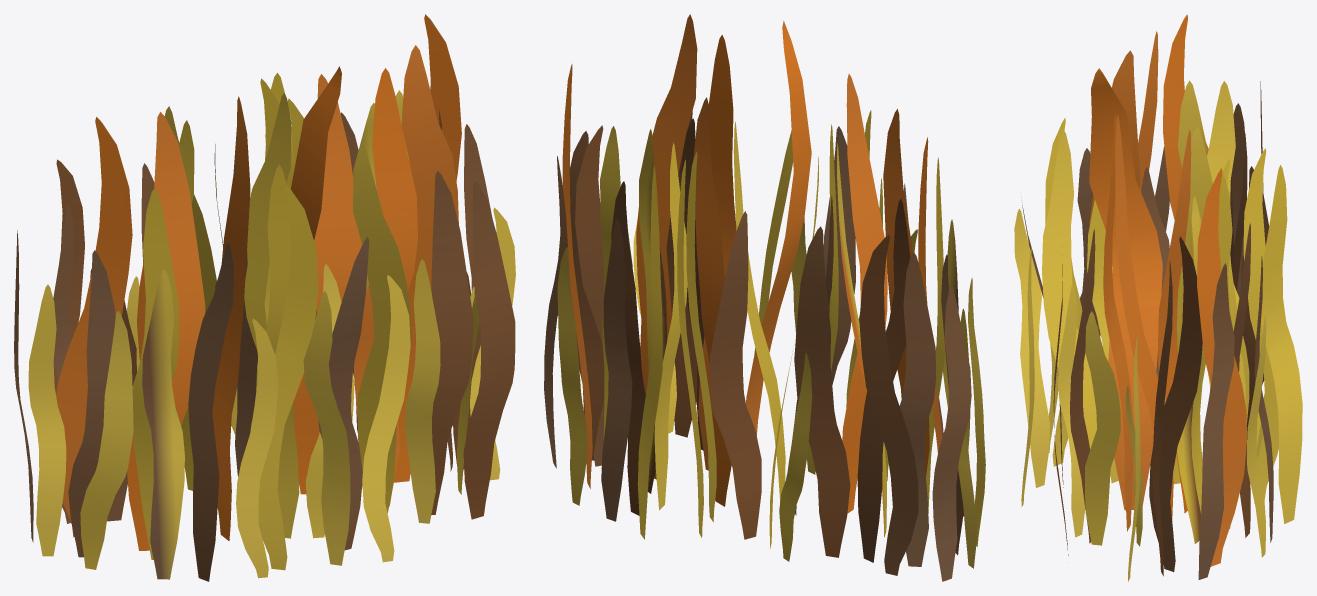
Rendered from plantB_002.fbx.
3 renders of one model, left to right at view 1: azimuth 30°, elevation 25°; view 2: azimuth 150°, elevation 25°; view 3: azimuth 270°, elevation 25°, orthographic. The views are drawn at different scales.
Parts seen in each view (by area): view 1: plantB.002; view 2: plantB.002; view 3: plantB.002.
Boxes of the visible parts, x1,y1,x2,y2 form: plantB.002: (14,14,515,581); plantB.002: (544,14,985,581); plantB.002: (1014,14,1302,581).
Size of the model in its own units: 103 by 102 by 60.71.
